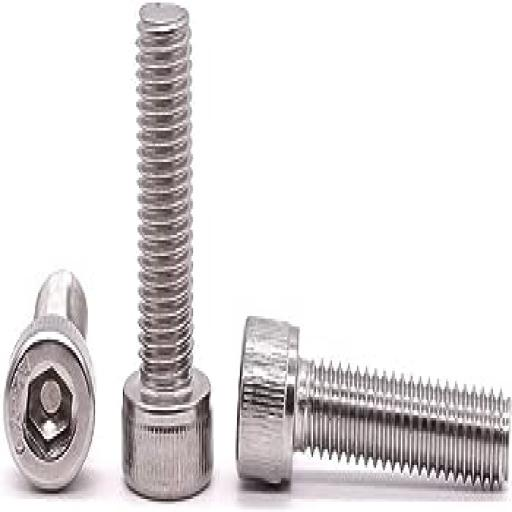Hex-Allen: (7, 318, 99, 498)
